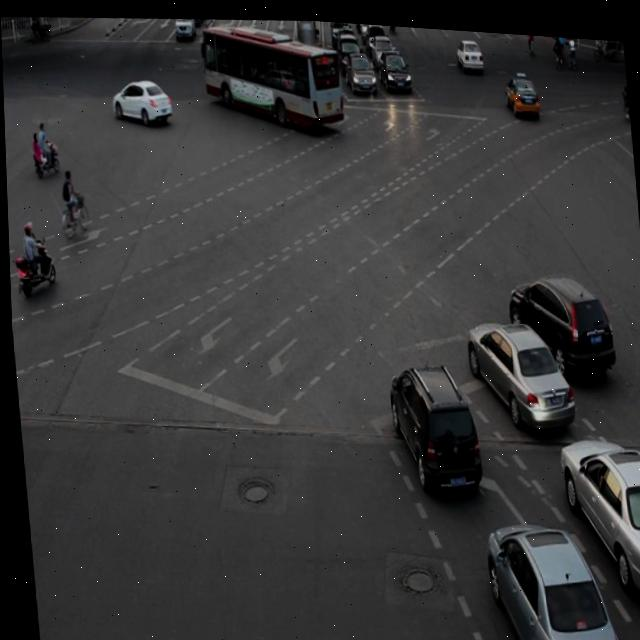car: (478, 504, 617, 640), (550, 421, 640, 596), (462, 306, 573, 427), (383, 352, 480, 488), (502, 259, 614, 375), (109, 73, 174, 128)
van: (201, 17, 344, 130)
